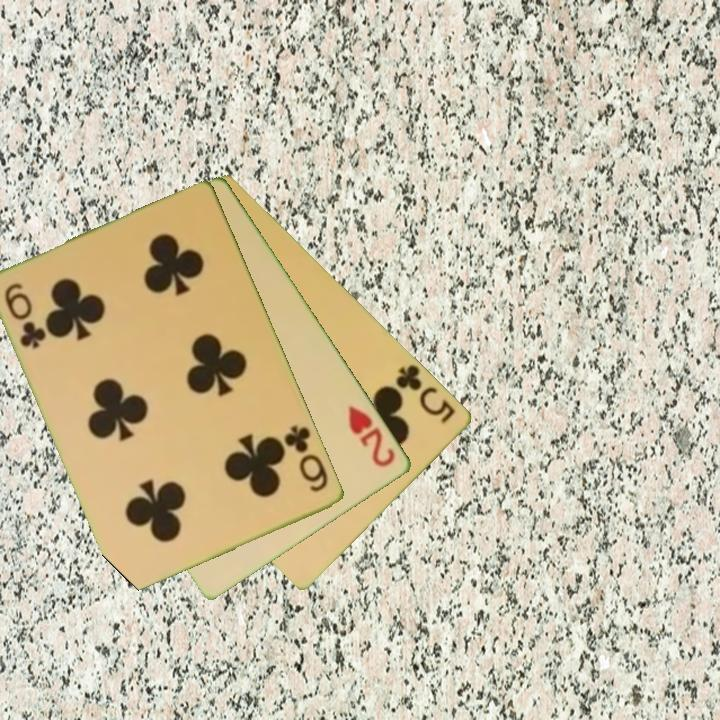2h: (345, 402, 399, 471)
5c: (392, 360, 459, 426)
6c: (281, 421, 332, 496), (1, 279, 50, 352)
